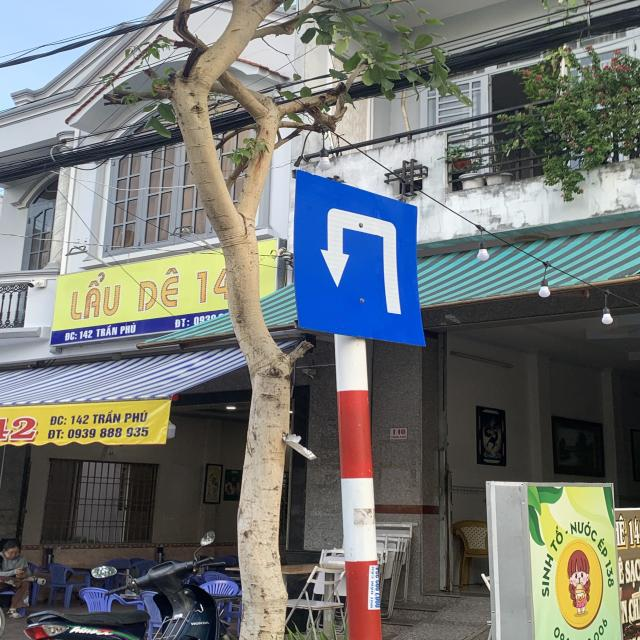Den_Giao_Thong: (295, 170, 418, 341)
